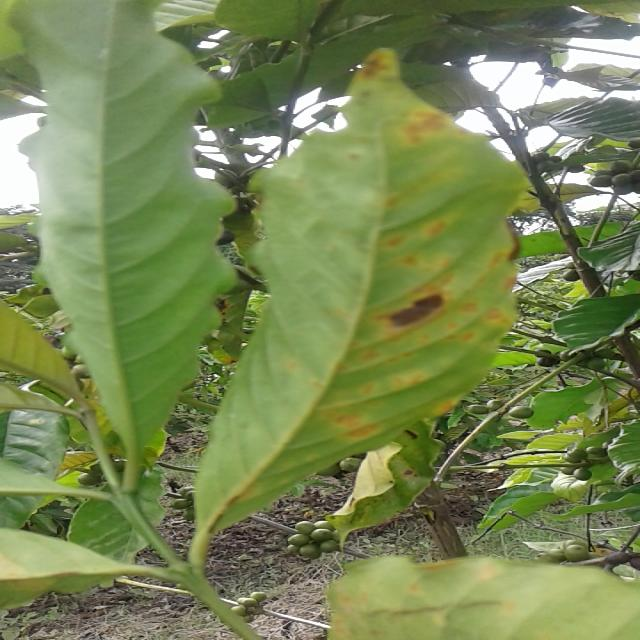Enfermedad-Roya: (187, 48, 538, 640)
